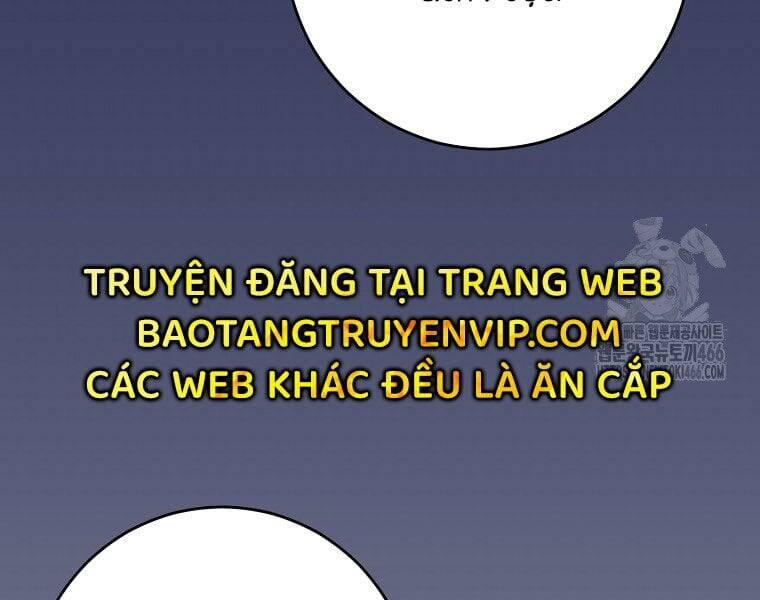quangcao: (81, 255, 676, 405)
